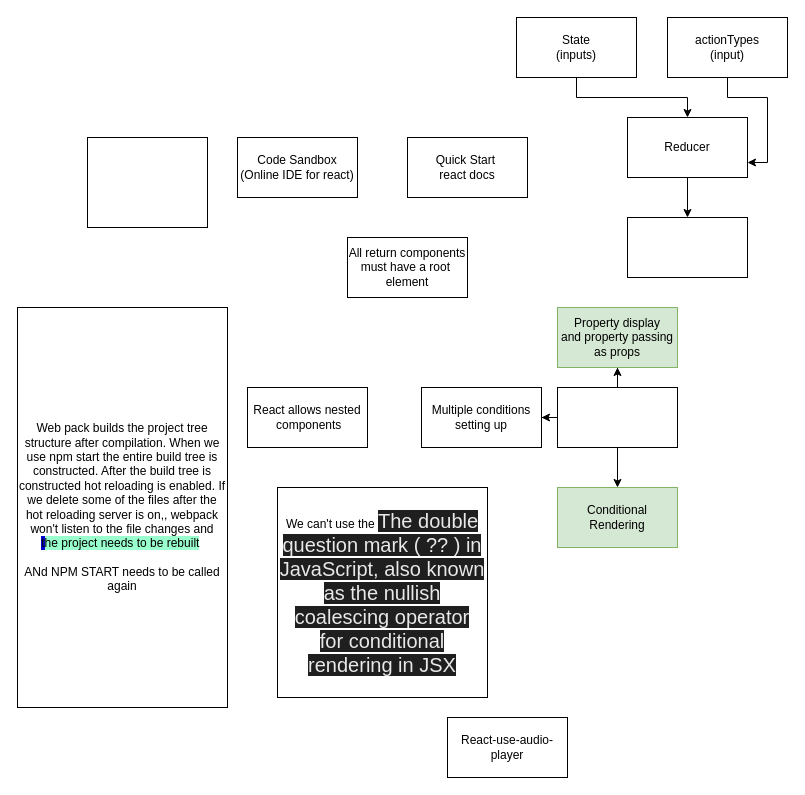
Image size: 805x795. Some labels were removed from this diagram. The centre of each missing label's shape, as x and y in pixels:
"Functional Components must have the same name as the file contatining it" belongs at pixel 147 182.
"Modified state (output)" belongs at pixel 687 247.
"What all is allowed inside of a JSX statement" belongs at pixel 617 417.
